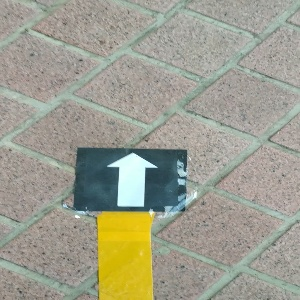straight: (72, 147, 186, 212)
